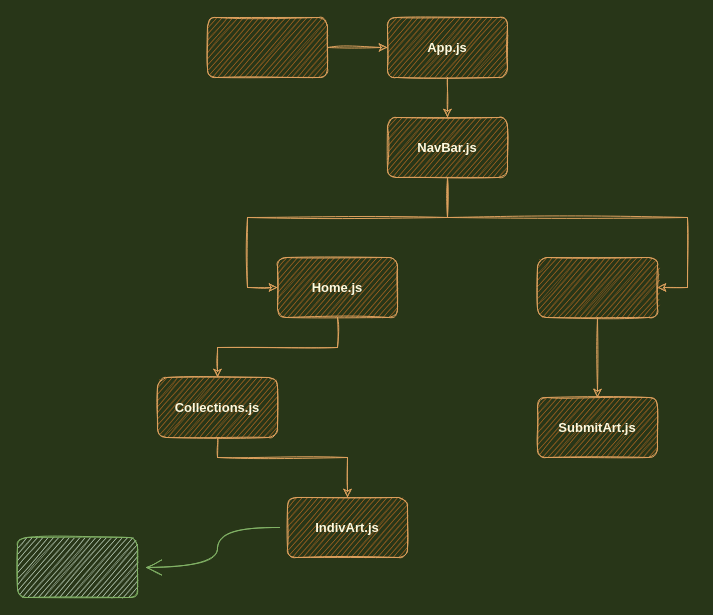
The diagram is 713 pixels wide and 615 high, and some of its shapes have lost their labels. The centre of each missing label's shape, as x and y in pixels:
index.html: point (267, 47)
ReviewArt.js: point (77, 567)
ShareArt.js: point (597, 287)
